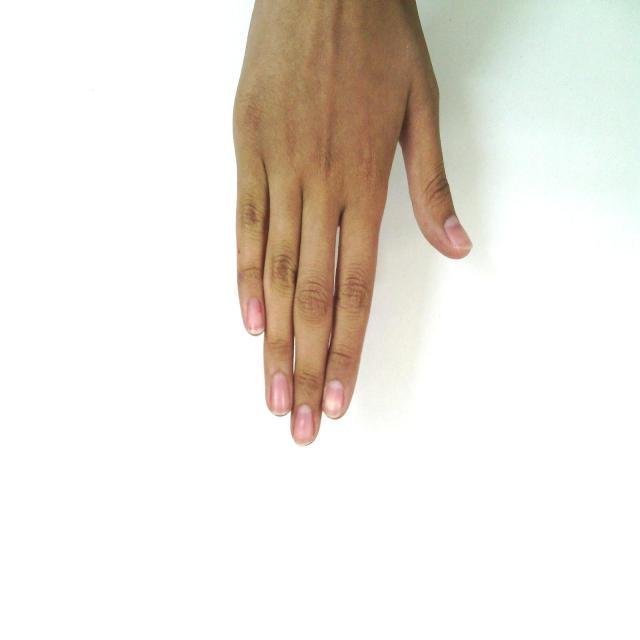Fingernail: (445, 215, 470, 248), (271, 373, 290, 415), (293, 405, 313, 444), (324, 381, 343, 417), (246, 298, 264, 334)
